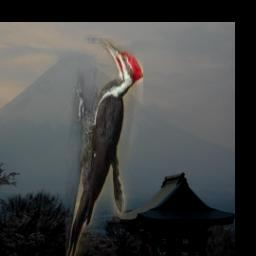Woodpecker: (65, 38, 143, 256)
